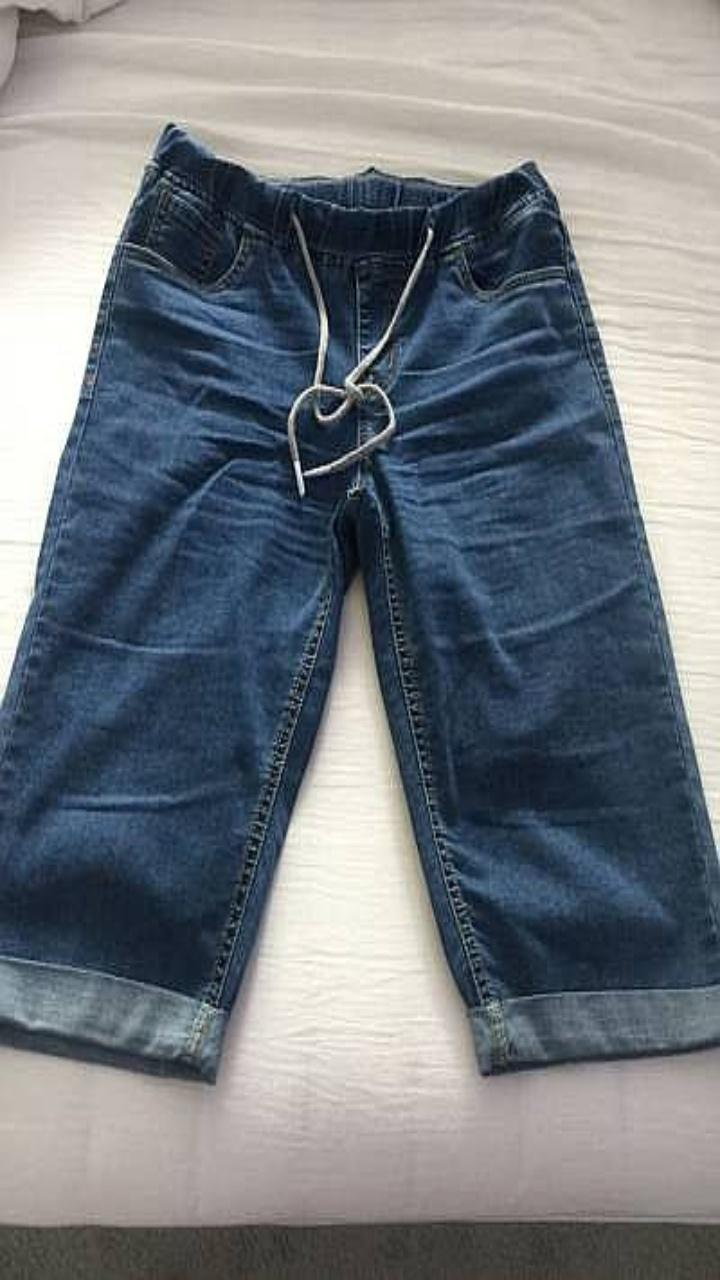Shorts: (0, 123, 719, 1082)
